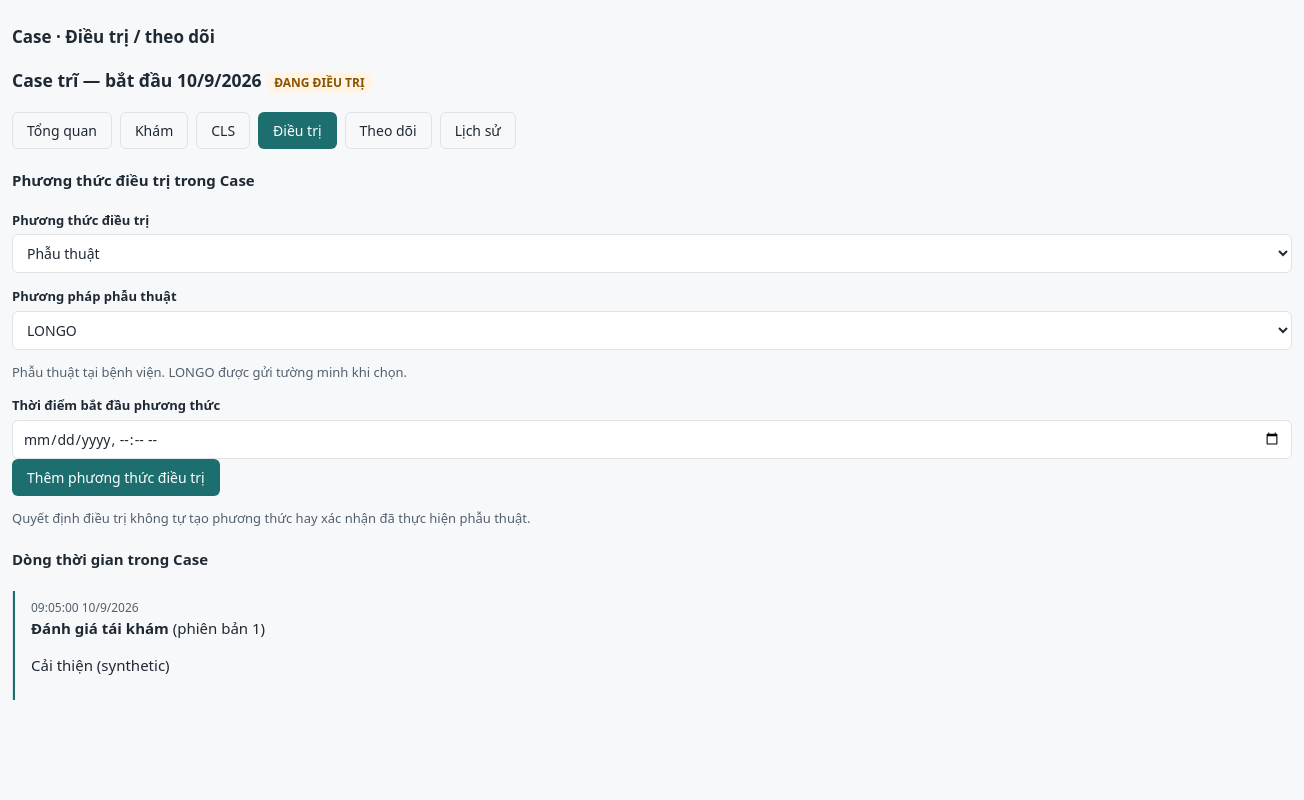
Test: LongoEpisodeWorkspace — Hemorrhoid Vertical Slice 3 continuous-care loop › T11 P1-01 (1-4): a pathway created via CaseTreatmentPanel refreshes the close-warning state
Check: the heading "Phương thức điều trị trong Case" is shown, box [12, 170, 255, 190]
Step 1. Select "Nội khoa" in the dropdown labelled "Phương thức điều trị" → (652, 254), box [12, 234, 1292, 274]
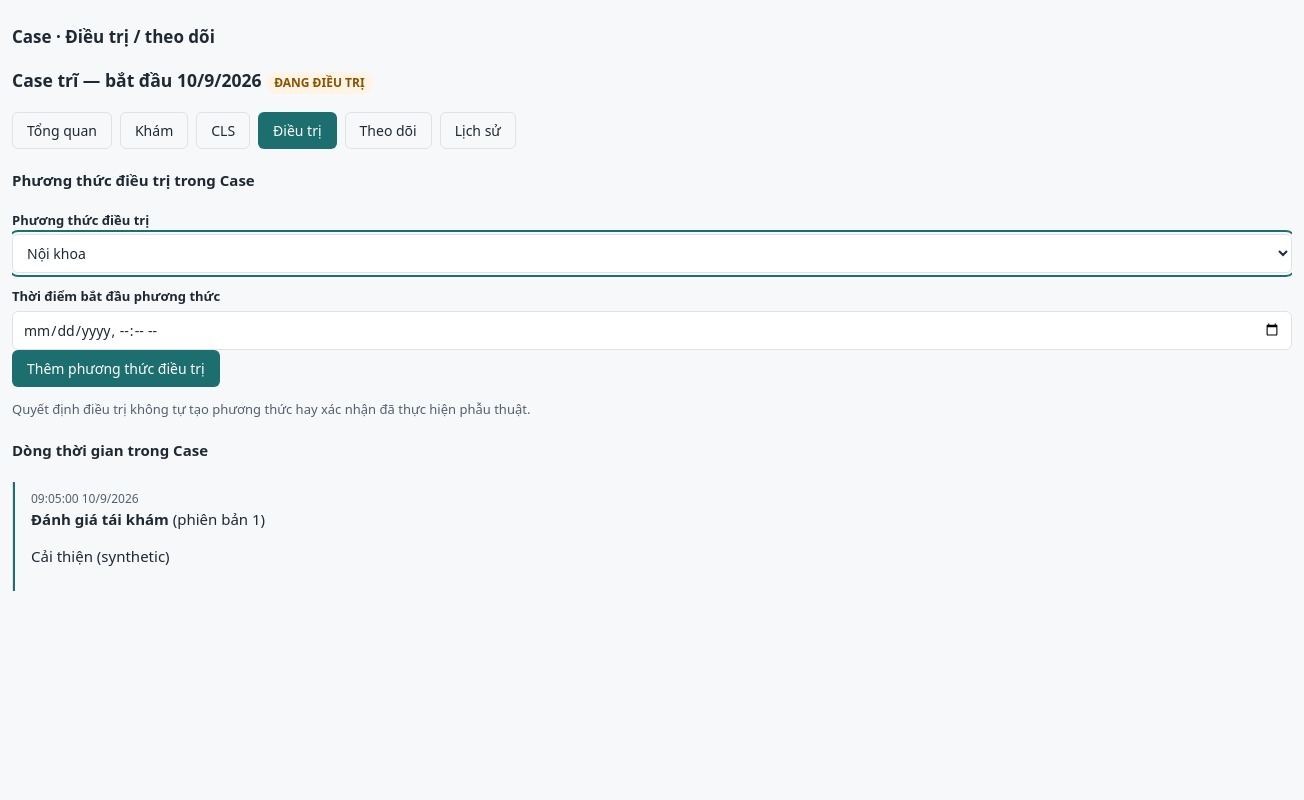
Step 2. Type "2026-09-12T09:00" into the field labelled "Thời điểm bắt đầu phương thức" → (652, 330), box [12, 311, 1292, 350]
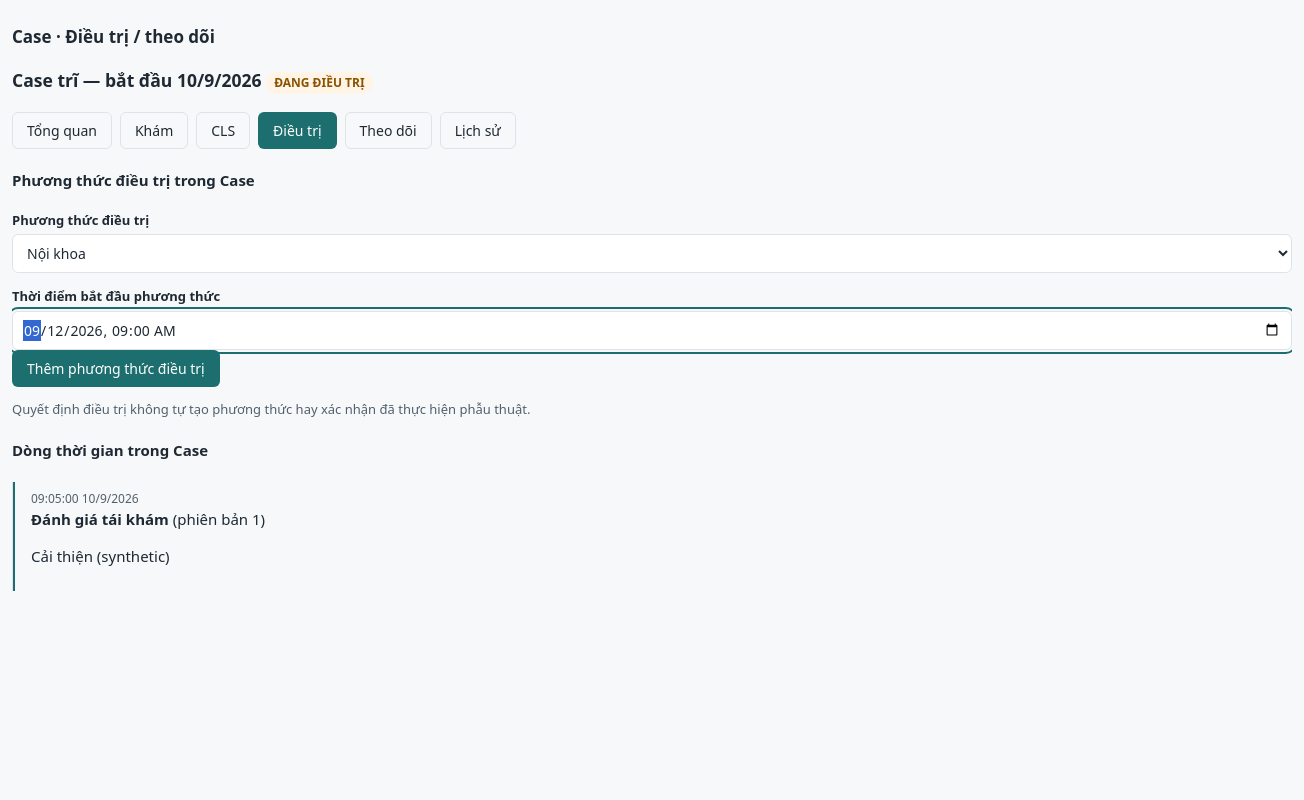
Step 3. Click the button "Thêm phương thức điều trị" → click(116, 368), box [12, 350, 220, 387]
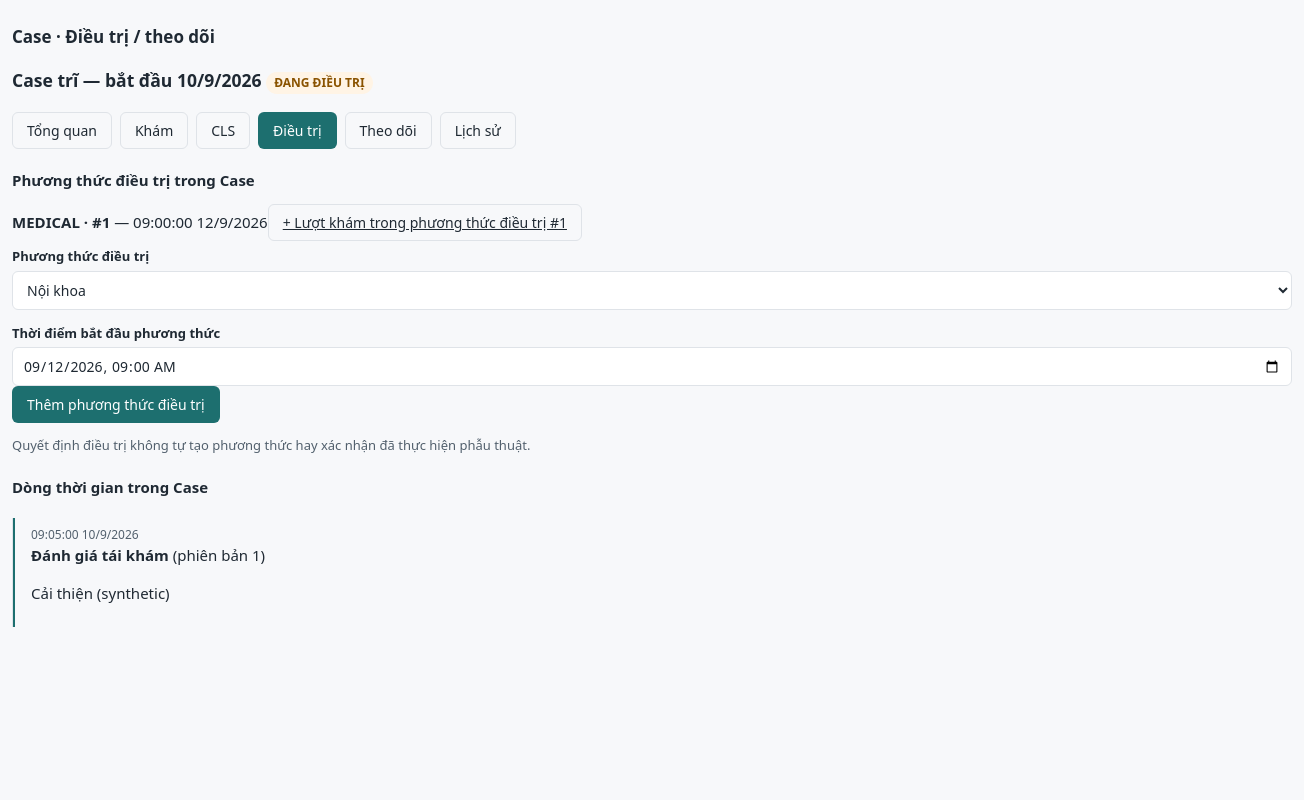
Step 4. Click the tab "Tổng quan" → click(62, 130), box [12, 112, 112, 149]
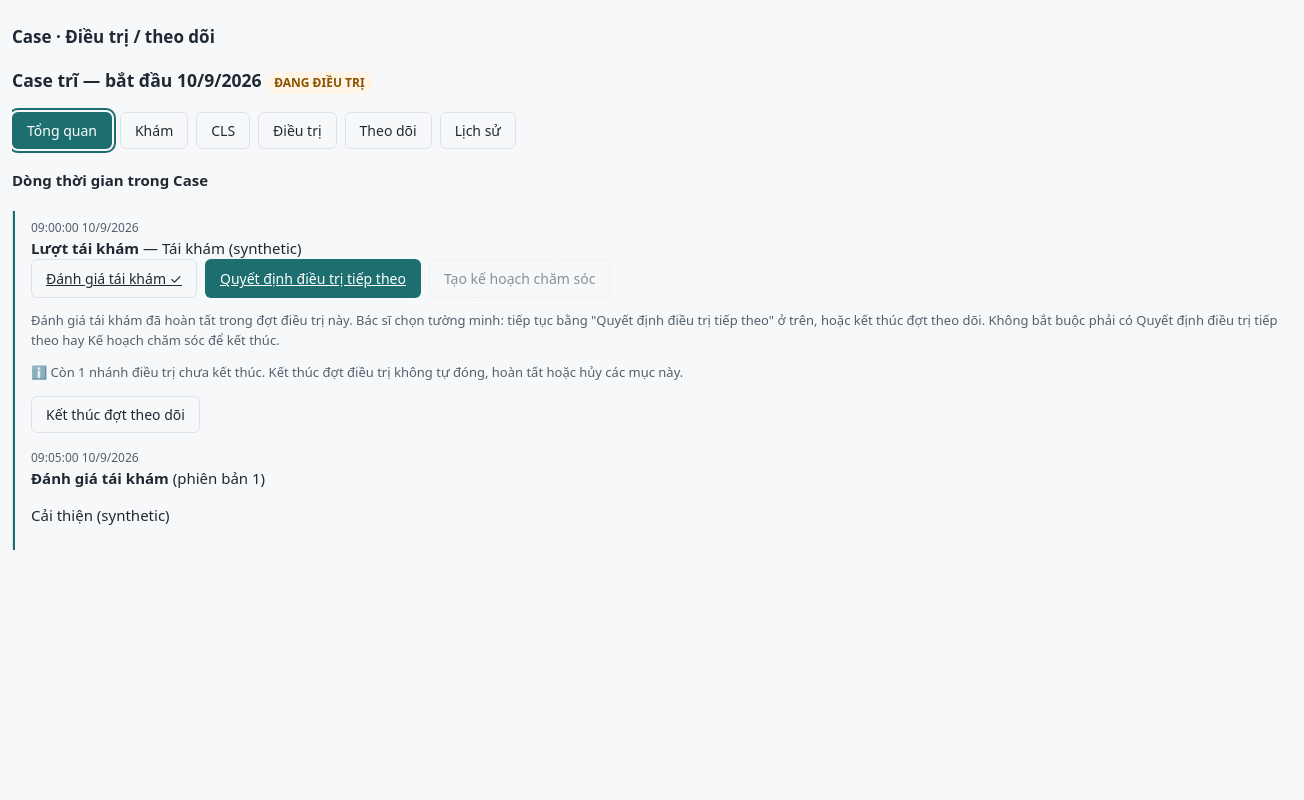
Check: the text "Còn 1 nhánh điều trị chưa kết thúc" is shown, box [31, 364, 683, 382]
